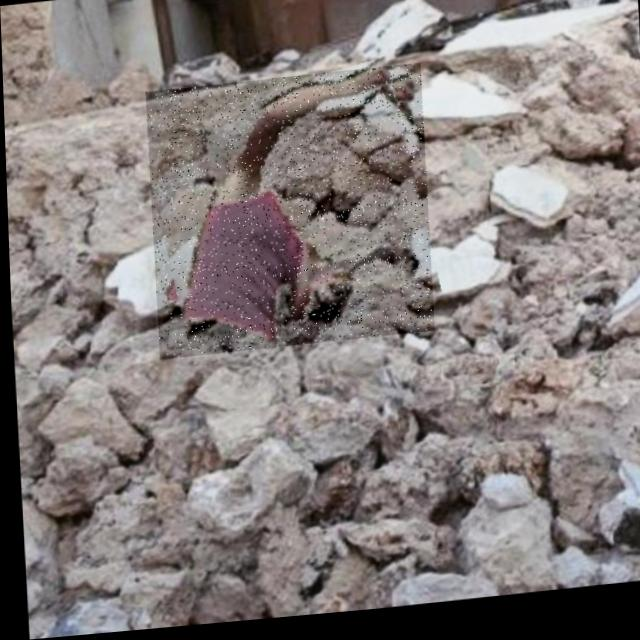Person in Rubble: (144, 70, 432, 362)
